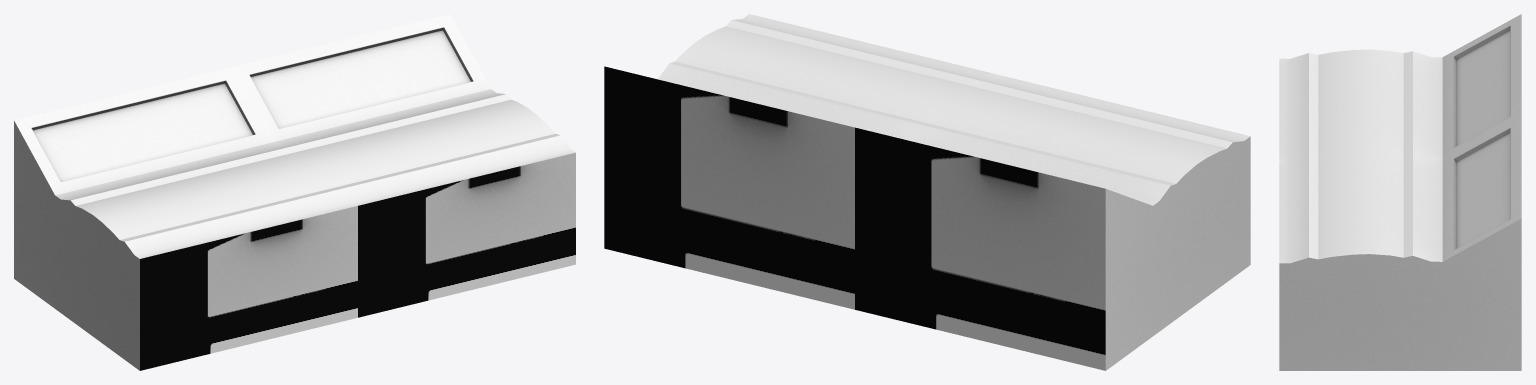
Rendered from WallDoorway_2.fbx.
3 views of the same model, side by side, from view 1: azimuth 30°, elevation 25°; view 2: azimuth 150°, elevation 25°; view 3: azimuth 270°, elevation 25° (orthographic). The views are drawn at different scales.
Visible parts, largest first — view 1: WallDoorway_2; view 2: WallDoorway_2; view 3: WallDoorway_2.
Boxes of the visible parts, box(x1,y1,x2,y2) form: WallDoorway_2: box(14, 14, 575, 370); WallDoorway_2: box(604, 14, 1250, 370); WallDoorway_2: box(1279, 14, 1521, 370).
Bounding box in the file's own units: 2 × 0.6947 × 1.
